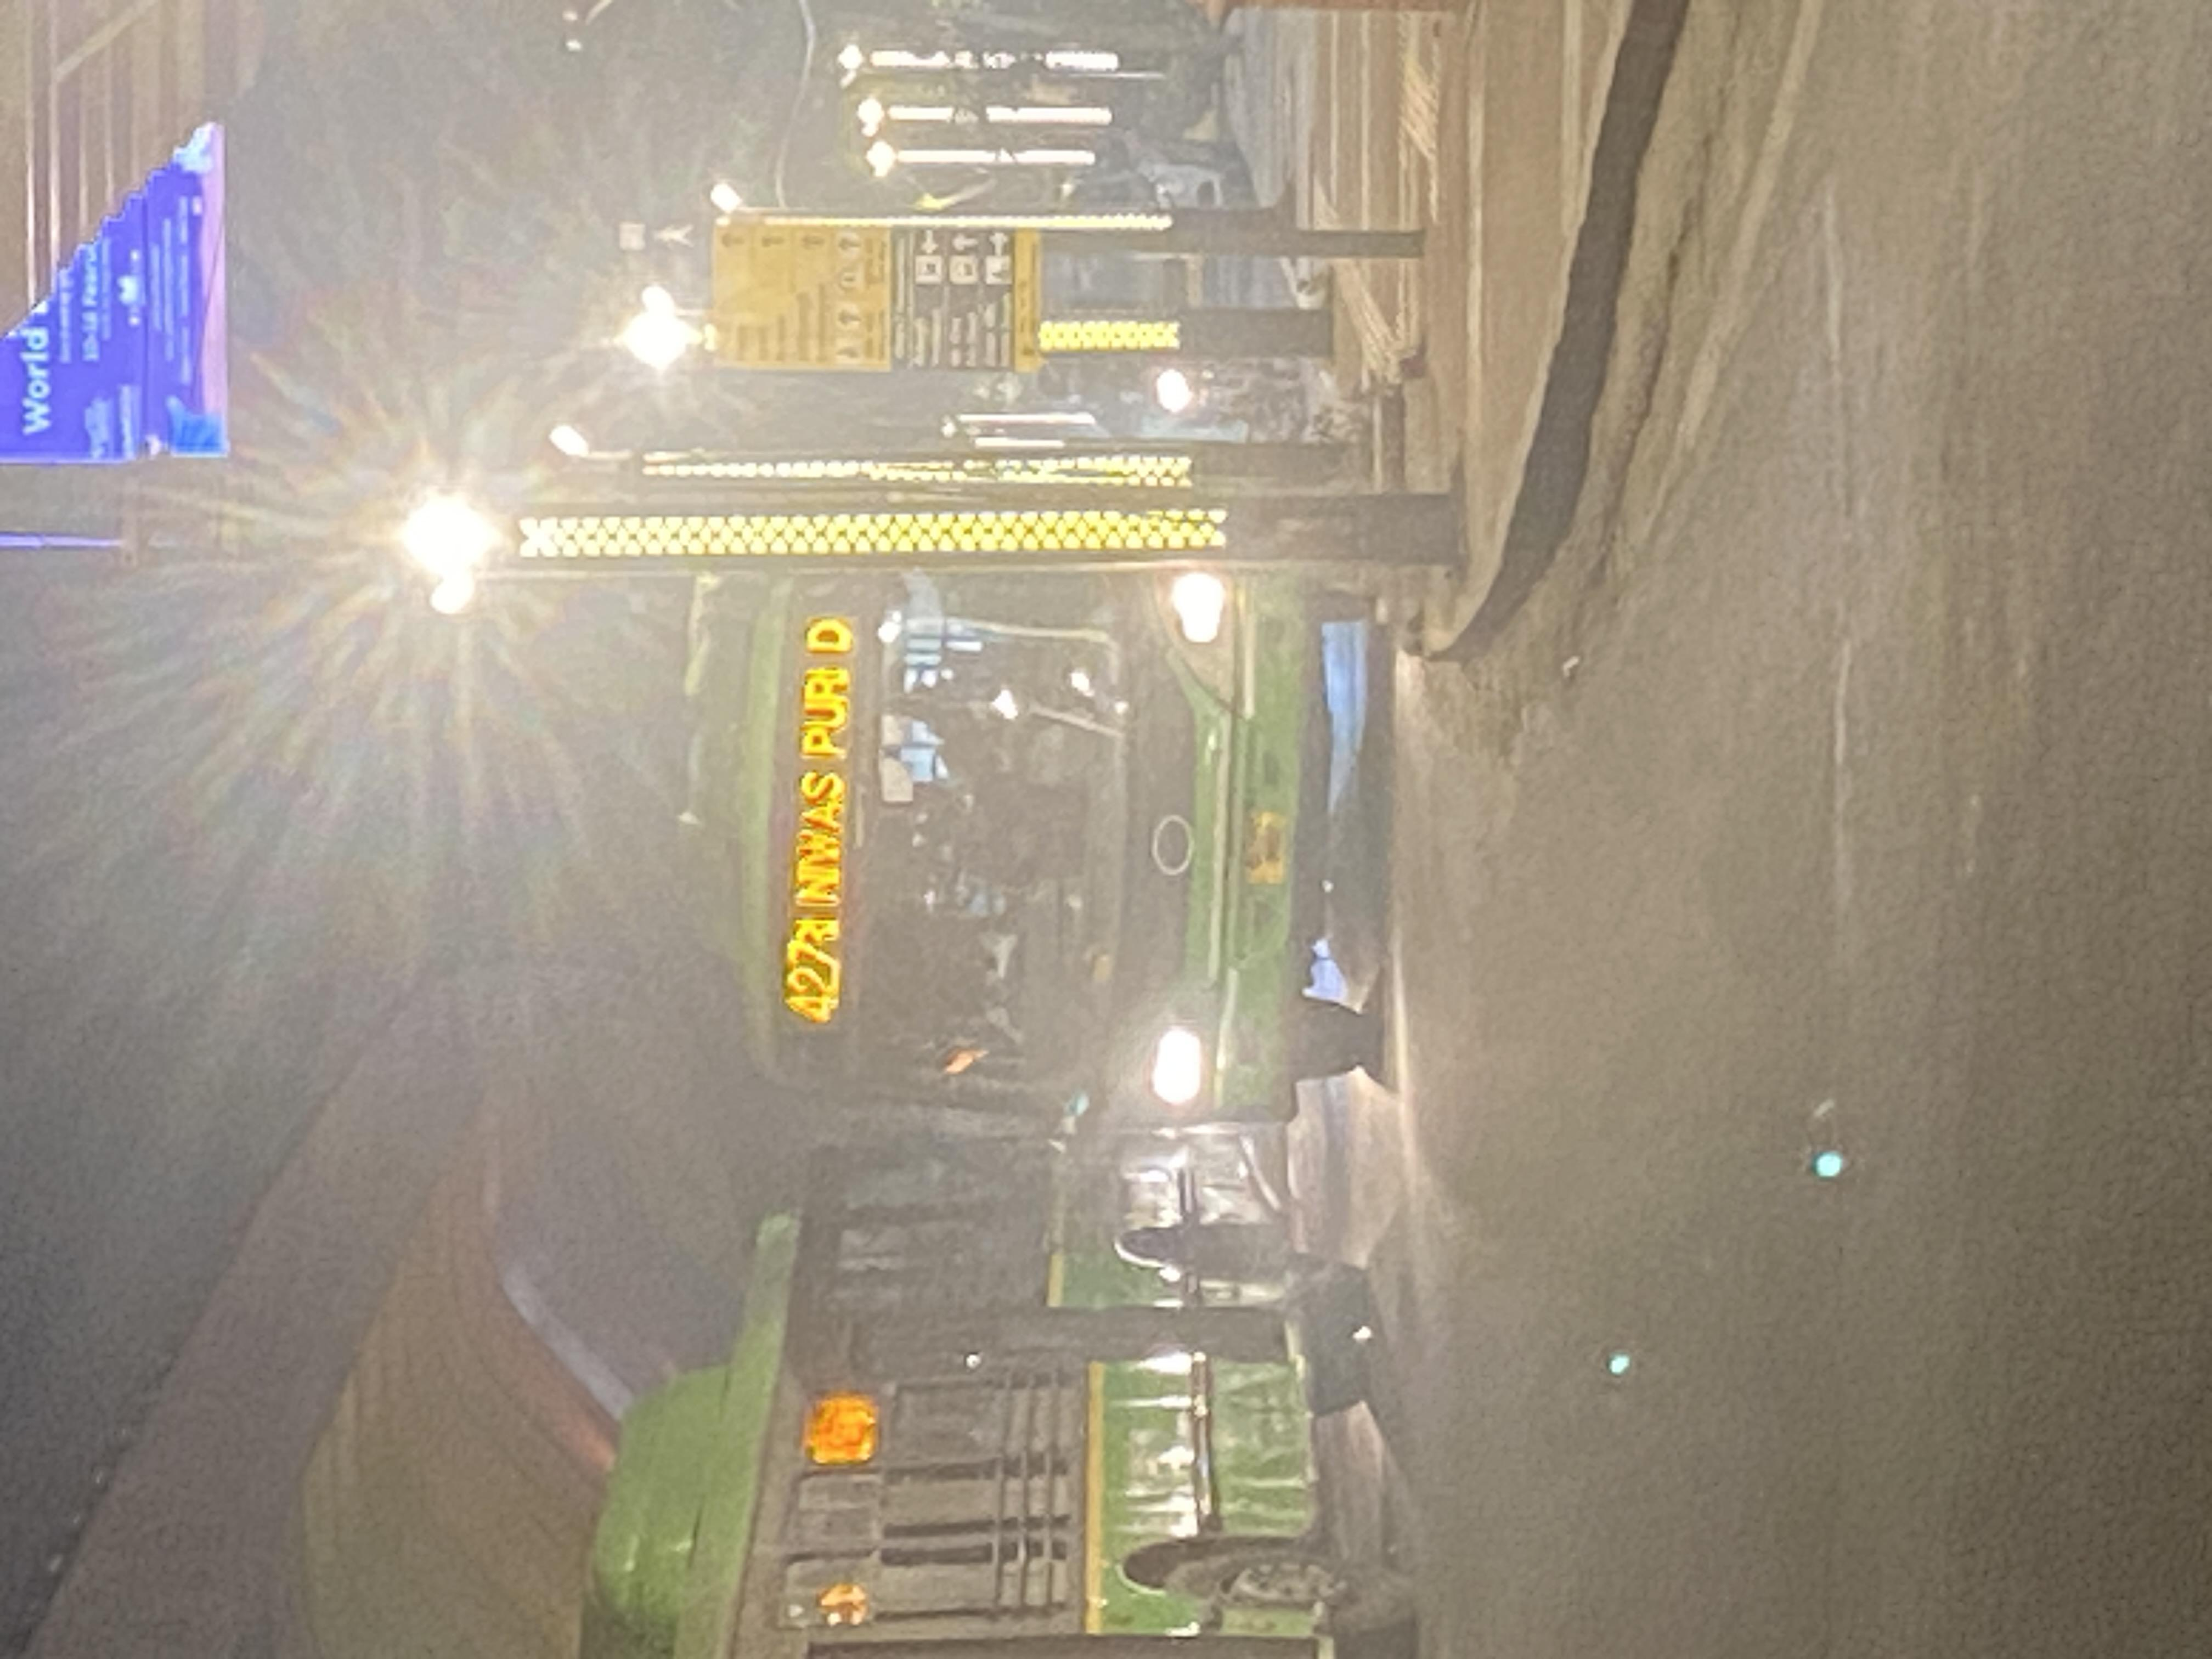Bus: (707, 544, 1388, 1180), (610, 1223, 1306, 1659)
Display Board: (730, 603, 878, 1114)
